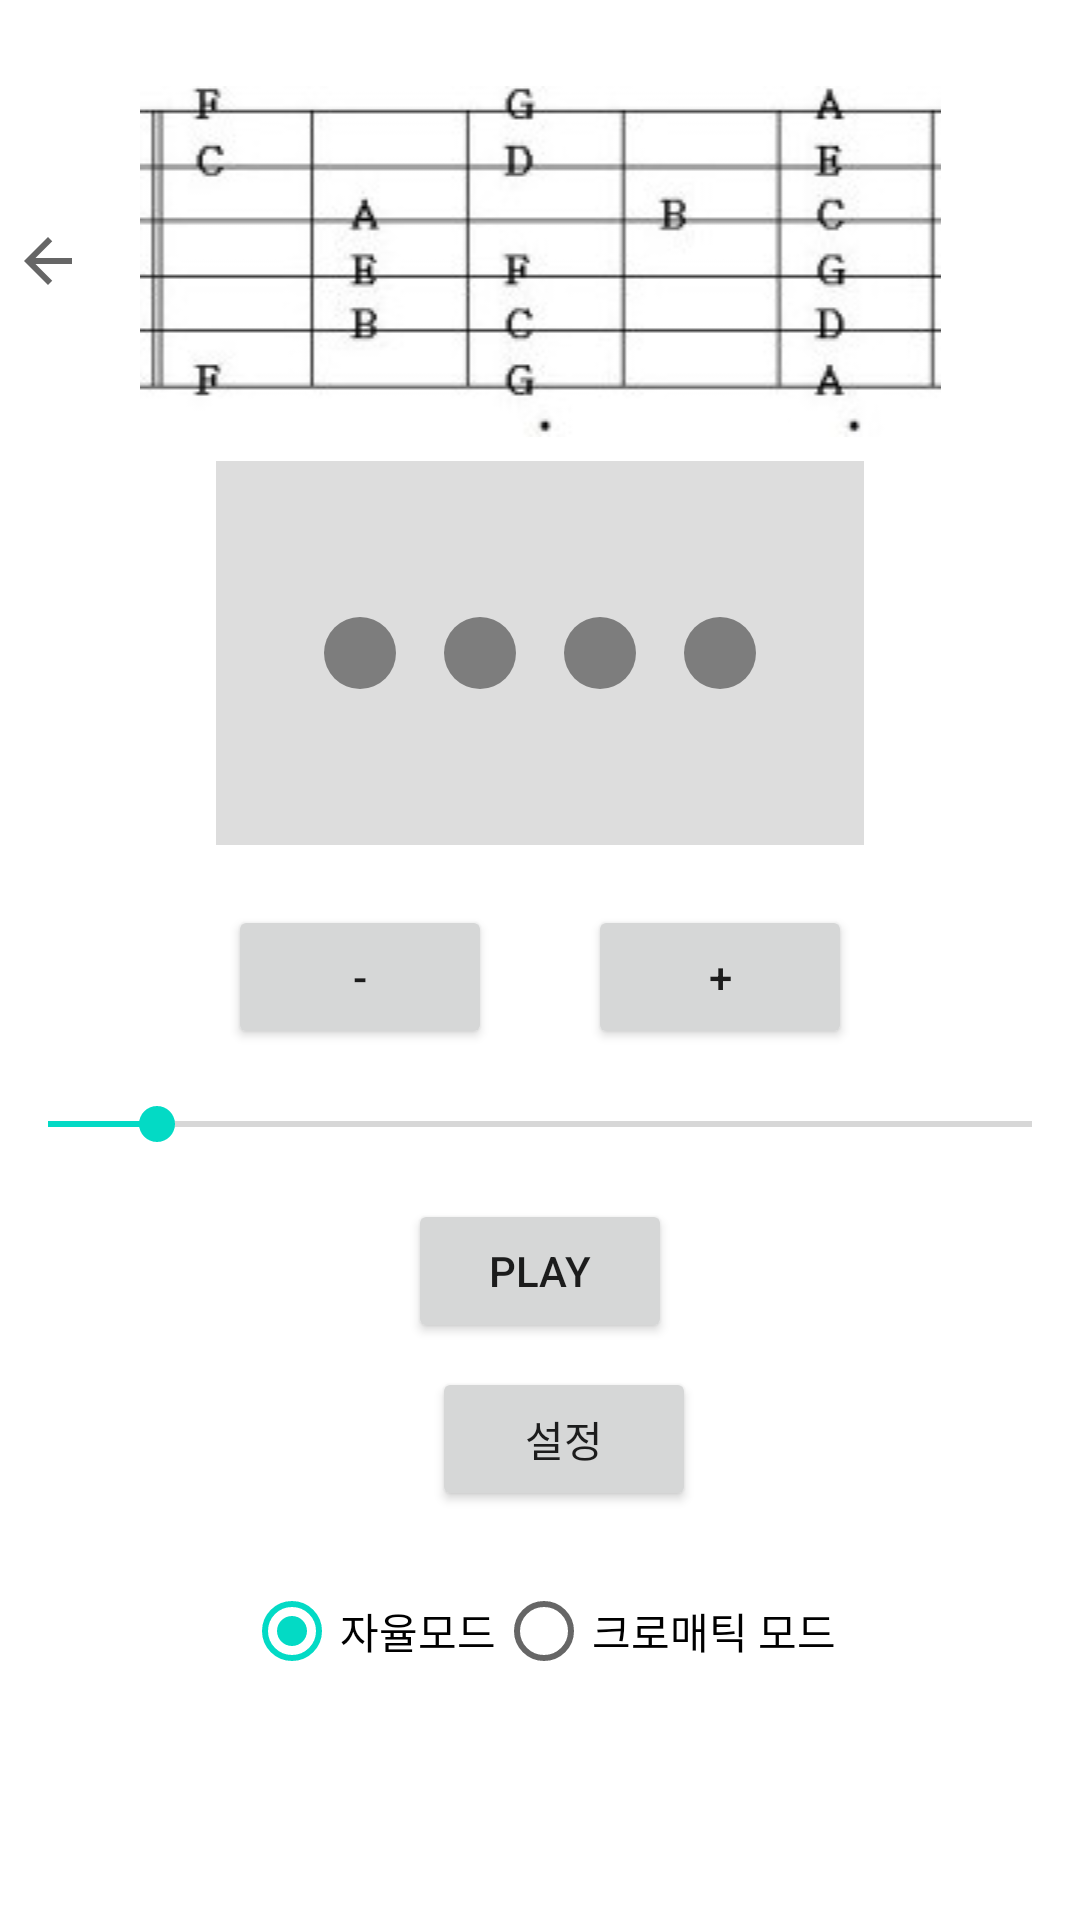

Where to tap for icons on this 1080px×1920px app screen, as (x=x, y=y):
arrowback: (x=48, y=261)
